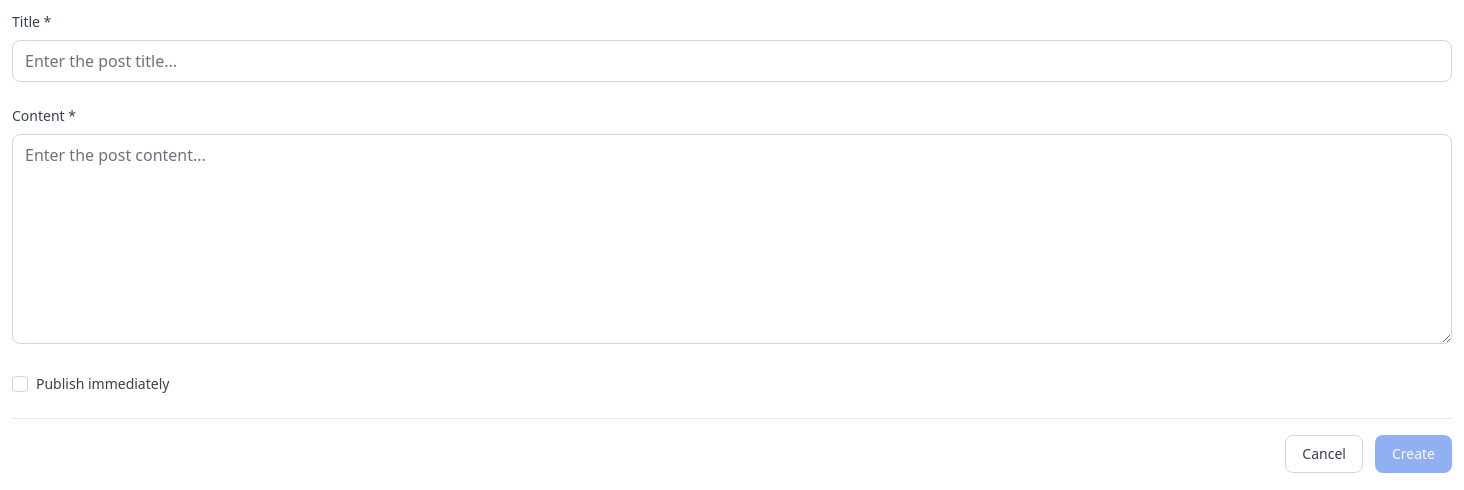
Test: PostForm Integration Tests › should enable submit button when form is valid
In the field labelled "Title *": (732, 61) [12, 40, 1452, 82], type "Valid Title"
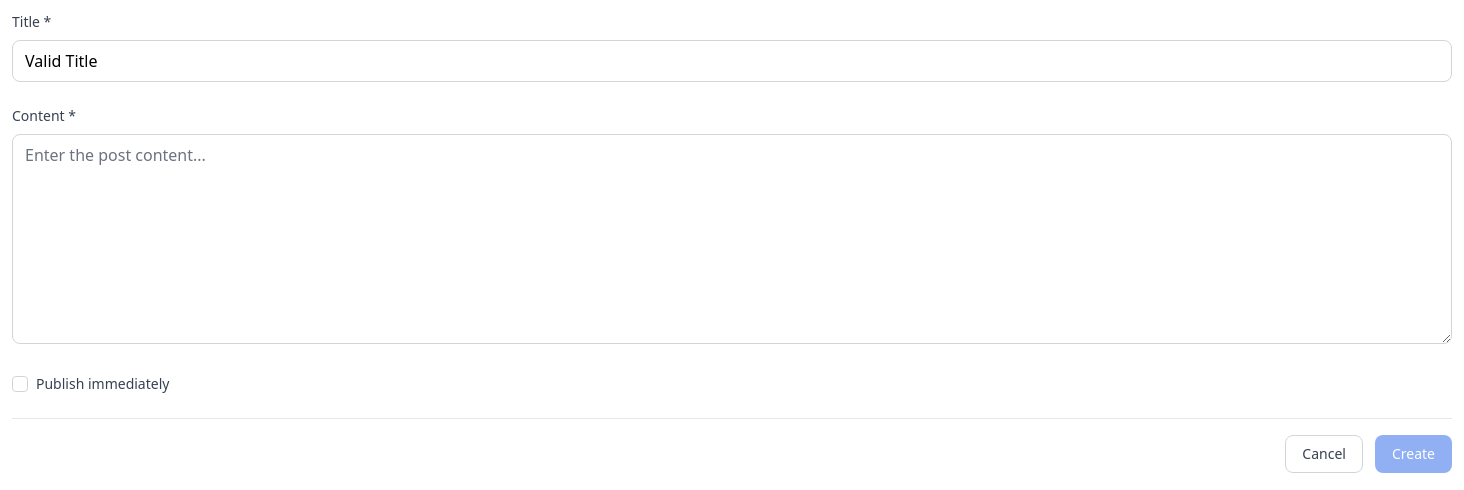
In the text box labelled "Content *": (732, 239) [12, 134, 1452, 344], type "Valid content"
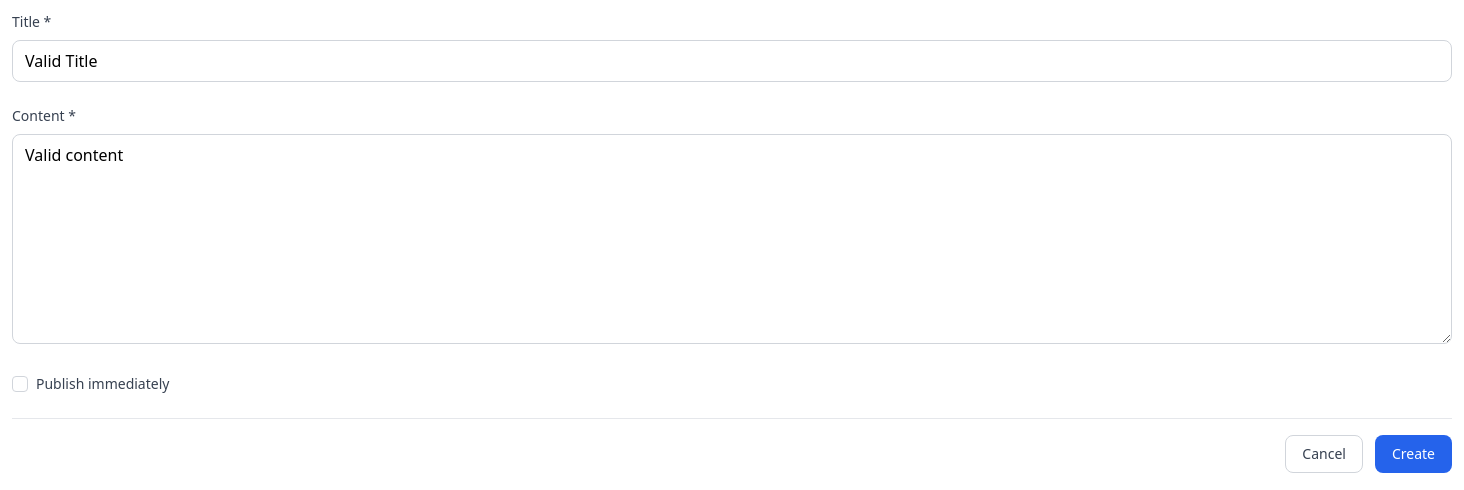
Expected: the button "Create" is enabled, [1375, 435, 1452, 473]
